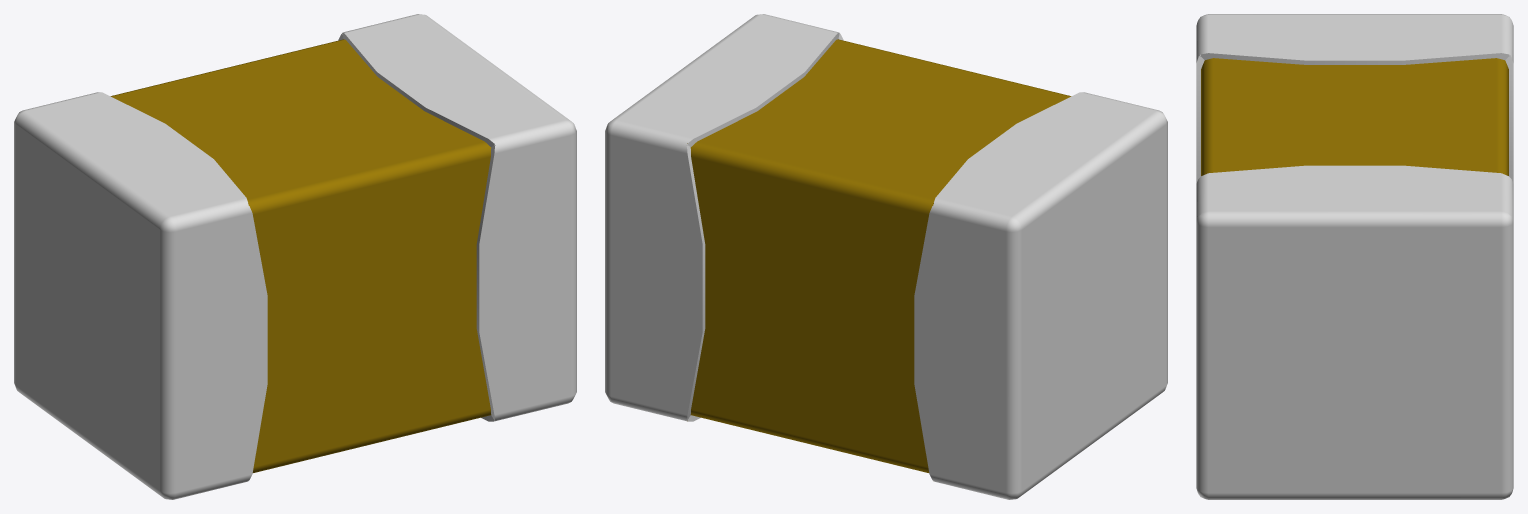
The model's file is Samsung_Electro_Mechanics_CL21A106KAYNNNE.3dmodel.glb.
3 renders of one model, left to right at view 1: azimuth 30°, elevation 25°; view 2: azimuth 150°, elevation 25°; view 3: azimuth 270°, elevation 25°, orthographic.
Visible parts, largest first — view 1: =>[0:1:1:1]; view 2: =>[0:1:1:1]; view 3: =>[0:1:1:1].
Boxes of the visible parts, x1,y1,x2,y2 form: =>[0:1:1:1]: (14,14,576,499); =>[0:1:1:1]: (605,14,1167,499); =>[0:1:1:1]: (1196,14,1513,499).
Bounding box in the file's own units: 2 × 1.3 × 1.3.
